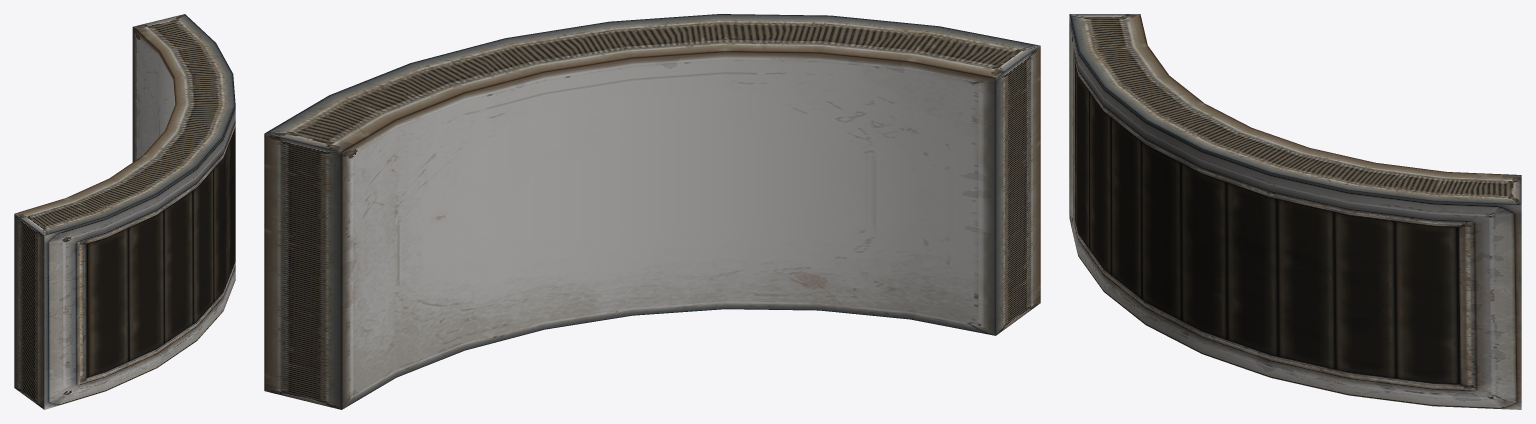
Rendered from scifi_wall_curve1_half_5.FBX.
3 renders of one model, left to right at view 1: azimuth 30°, elevation 25°; view 2: azimuth 150°, elevation 25°; view 3: azimuth 270°, elevation 25°, orthographic. The views are drawn at different scales.
Visible parts, largest first — view 1: half012; view 2: half012; view 3: half012.
Boxes of the visible parts, x1,y1,x2,y2 form: half012: (14,14,235,409); half012: (264,14,1040,409); half012: (1069,14,1521,409).
Bounding box in the file's own units: 254 × 127 × 254.
